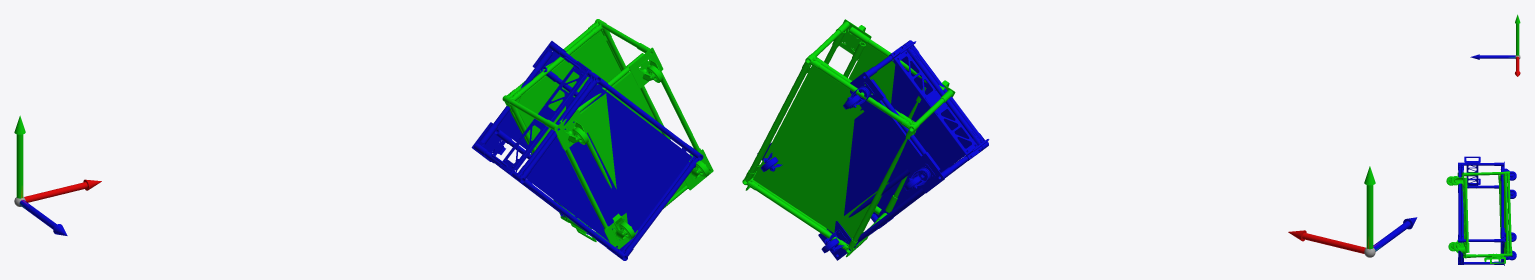
Rendered from combined_scene_sample_253.glb.
3 views of the same model, side by side, from view 1: azimuth 30°, elevation 25°; view 2: azimuth 150°, elevation 25°; view 3: azimuth 270°, elevation 25° (orthographic). The views are drawn at different scales.
Parts seen in each view (by area): view 1: gt, pred, frame; view 2: pred, gt, frame; view 3: pred, gt, frame.
Part boxes in pixels (x1=…): gt: x1=471, y1=41, x2=703, y2=260; pred: x1=502, y1=19, x2=713, y2=249; frame: x1=14, y1=115, x2=101, y2=235; pred: x1=742, y1=19, x2=955, y2=257; gt: x1=757, y1=40, x2=989, y2=260; frame: x1=1288, y1=166, x2=1417, y2=257; pred: x1=1446, y1=171, x2=1512, y2=263; gt: x1=1458, y1=156, x2=1516, y2=265; frame: x1=1470, y1=14, x2=1520, y2=76.
Bounding box in the file's own units: 3.92 × 1.38 × 0.7777.
